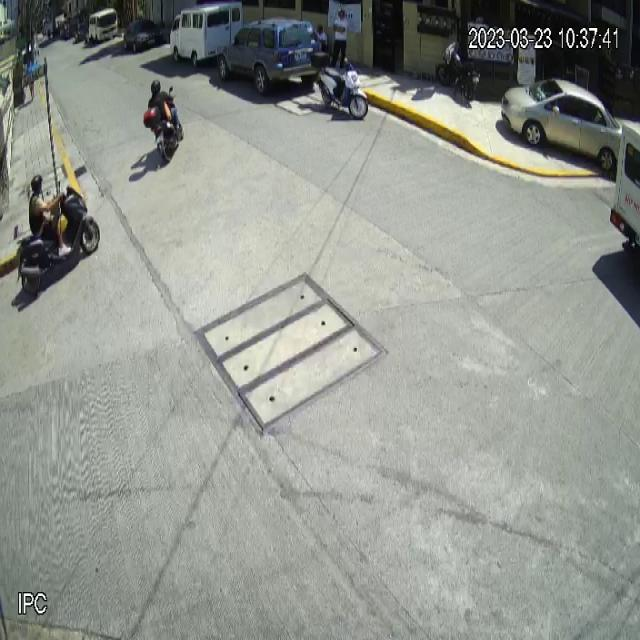Car: (500, 76, 621, 175), (216, 17, 322, 98)
Motorcycle: (9, 185, 101, 295), (311, 49, 371, 125)
Van: (169, 1, 245, 67)
